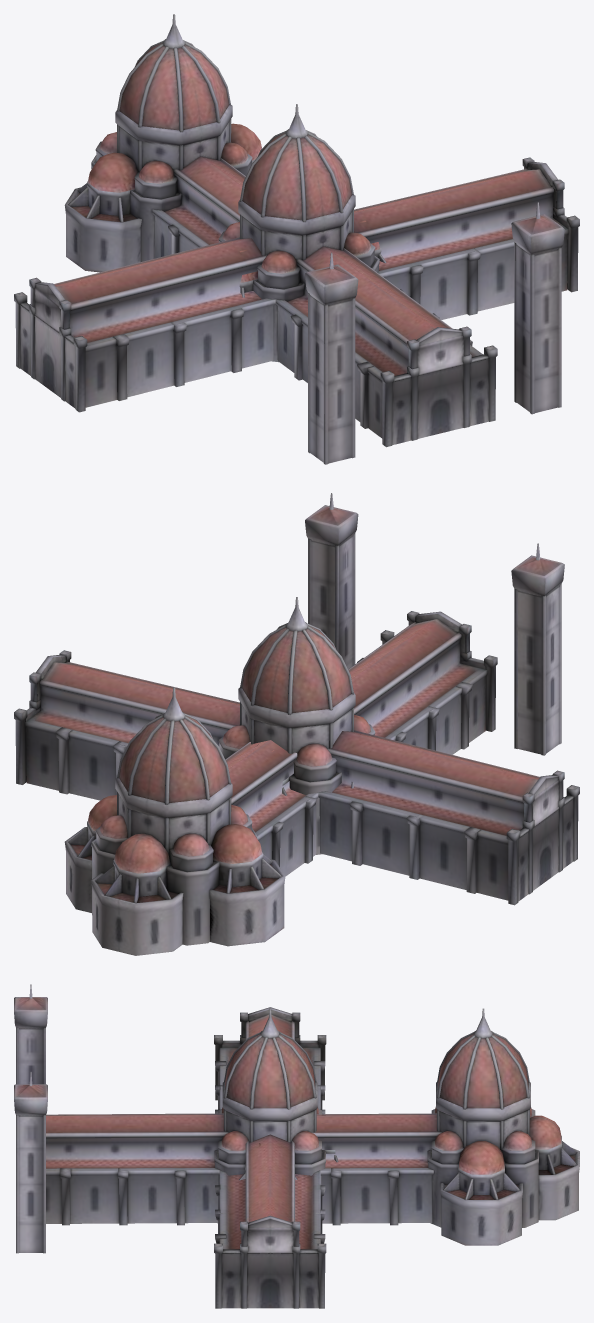
File: JSBachsCathedral.glb
The picture shows the model from 3 angles, top to bottom: view 1: azimuth 30°, elevation 25°; view 2: azimuth 150°, elevation 25°; view 3: azimuth 270°, elevation 25°; orthographic projection. The views are drawn at different scales.
Parts seen in each view (by area): view 1: low; view 2: low; view 3: low.
Part boxes in pixels (x1,y1,x2,y2): low: (14, 14, 579, 464); low: (14, 493, 579, 955); low: (14, 984, 579, 1308).
Bounding box in the file's own units: 17.94 × 7.67 × 20.22.
Materials: 1 (1 with a texture image).
